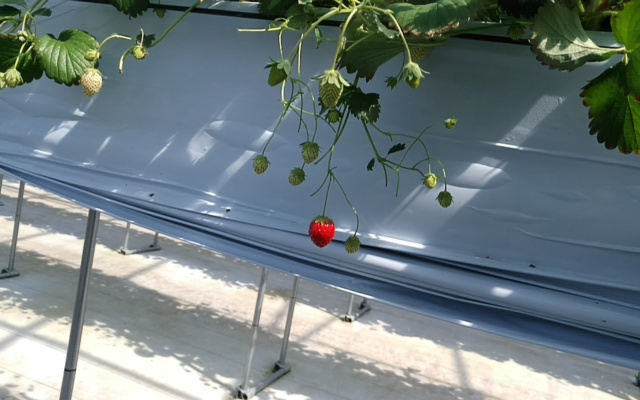GreenStrawberry: (317, 76, 343, 108), (81, 69, 103, 98), (300, 140, 320, 165), (287, 169, 305, 187), (345, 236, 362, 254), (253, 155, 268, 175), (437, 191, 453, 209), (406, 73, 421, 88), (327, 110, 341, 126), (410, 47, 424, 61), (424, 175, 433, 189)
MatureStrawberry: (310, 214, 335, 247)
